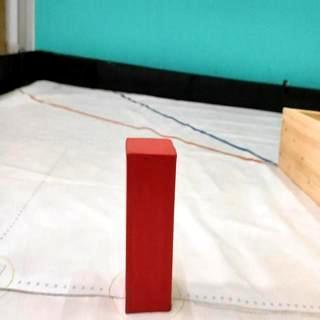redbox: (124, 136, 177, 315)
